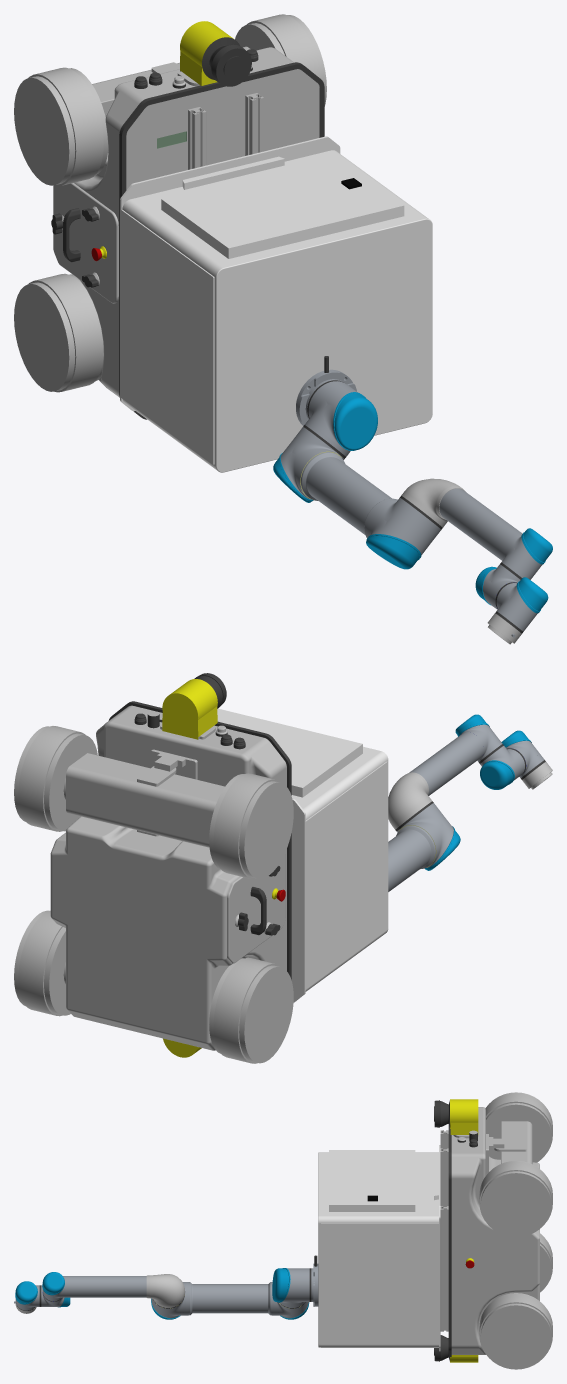
Rendered from MMO-500_UR5_V1-2-3_2020-10-23.fbx.
3 renders of one model, top to bottom at view 1: azimuth 30°, elevation 25°; view 2: azimuth 150°, elevation 25°; view 3: azimuth 270°, elevation 25°, orthographic. The views are drawn at different scales.
Visible parts, largest first — view 1: MPO-500 V1.2.3 Simplified UR Schaltschrank, MPO-500 V1.2.3 Simplified Complete, Size 3_Over arm_r01_Simpel, Size 1 r\X2\FFFD\X0\r_r01_Simple, Size 3_House_r11_Simple, Size 3_Joint lid_r06_Simple_2, Size 3_House_r11_Simple_2, Size 3_House_r11_Simple_1, Size 3 to Size 1_Angle_r02_Simple, Size 3_Joint lid_r06_Simple, Size 1_House_r13_Simple, Size 1_House_r13_Simple_2 (+2 smaller); view 2: MPO-500 V1.2.3 Simplified Complete, MPO-500 V1.2.3 Simplified UR Schaltschrank, Size 3_Over arm_r01_Simpel, Size 1 r\X2\FFFD\X0\r_r01_Simple, Size 3 to Size 1_Angle_r02_Simple, Size 3_House_r11_Simple, Size 1_Joint lid_r07_Simple_1, Size 1_House_r13_Simple_1, Size 1_House_r13_Simple_2, Size 1_House_r13_Simple; view 3: MPO-500 V1.2.3 Simplified Complete, MPO-500 V1.2.3 Simplified UR Schaltschrank, Size 3_Over arm_r01_Simpel, Size 1 r\X2\FFFD\X0\r_r01_Simple, Size 3 to Size 1_Angle_r02_Simple, Size 3_House_r11_Simple_2, Size 3_Joint lid_r06_Simple_2, Size 3_House_r11_Simple, Size 3_House_r11_Simple_1, Size 1_Joint lid_r07_Simple, Size 1_Joint lid_r07_Simple_2, Size 3_Round base_r02_Simple.
Boxes of the visible parts, x1=… form: MPO-500 V1.2.3 Simplified UR Schaltschrank: x1=120, y1=136, x2=432, y2=472; MPO-500 V1.2.3 Simplified Complete: x1=14, y1=14, x2=326, y2=419; Size 3_Over arm_r01_Simpel: x1=300, y1=452, x2=395, y2=537; Size 1 r\X2\FFFD\X0\r_r01_Simple: x1=439, y1=488, x2=522, y2=560; Size 3_House_r11_Simple: x1=365, y1=495, x2=442, y2=555; Size 3_Joint lid_r06_Simple_2: x1=333, y1=392, x2=377, y2=450; Size 3_House_r11_Simple_2: x1=304, y1=380, x2=357, y2=456; Size 3_House_r11_Simple_1: x1=280, y1=425, x2=345, y2=499; Size 3 to Size 1_Angle_r02_Simple: x1=401, y1=478, x2=465, y2=527; Size 3_Joint lid_r06_Simple: x1=366, y1=534, x2=421, y2=569; Size 1_House_r13_Simple: x1=495, y1=583, x2=537, y2=633; Size 1_House_r13_Simple_2: x1=500, y1=534, x2=541, y2=579; MPO-500 V1.2.3 Simplified Complete: x1=14, y1=673, x2=293, y2=1063; MPO-500 V1.2.3 Simplified UR Schaltschrank: x1=217, y1=708, x2=388, y2=1002; Size 3_Over arm_r01_Simpel: x1=388, y1=825, x2=435, y2=891; Size 1 r\X2\FFFD\X0\r_r01_Simple: x1=409, y1=732, x2=483, y2=795; Size 3 to Size 1_Angle_r02_Simple: x1=388, y1=772, x2=432, y2=829; Size 3_House_r11_Simple: x1=395, y1=801, x2=453, y2=867; Size 1_Joint lid_r07_Simple_1: x1=480, y1=760, x2=514, y2=789; Size 1_House_r13_Simple_1: x1=480, y1=746, x2=525, y2=780; Size 1_House_r13_Simple_2: x1=460, y1=724, x2=503, y2=763; Size 1_House_r13_Simple: x1=506, y1=740, x2=545, y2=779; MPO-500 V1.2.3 Simplified Complete: x1=434, y1=1092, x2=552, y2=1369; MPO-500 V1.2.3 Simplified UR Schaltschrank: x1=318, y1=1145, x2=440, y2=1351; Size 3_Over arm_r01_Simpel: x1=188, y1=1282, x2=271, y2=1315; Size 1 r\X2\FFFD\X0\r_r01_Simple: x1=67, y1=1276, x2=146, y2=1297; Size 3 to Size 1_Angle_r02_Simple: x1=146, y1=1274, x2=185, y2=1307; Size 3_House_r11_Simple_2: x1=280, y1=1268, x2=311, y2=1307; Size 3_Joint lid_r06_Simple_2: x1=272, y1=1268, x2=290, y2=1302; Size 3_House_r11_Simple: x1=151, y1=1282, x2=188, y2=1318; Size 3_House_r11_Simple_1: x1=271, y1=1282, x2=308, y2=1318; Size 1_Joint lid_r07_Simple: x1=15, y1=1281, x2=37, y2=1304; Size 1_Joint lid_r07_Simple_2: x1=42, y1=1272, x2=64, y2=1295; Size 3_Round base_r02_Simple: x1=311, y1=1255, x2=318, y2=1306.
Bounding box in the file's own units: 65.4 × 98.58 × 185.
